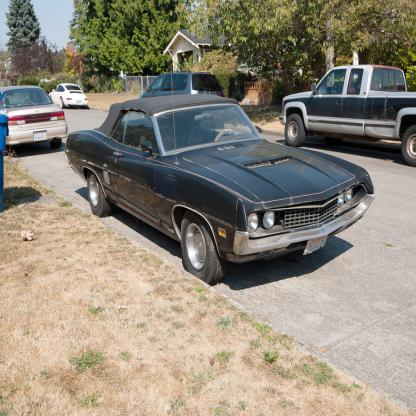Car: (64, 57, 375, 288), (0, 88, 68, 148), (138, 73, 224, 119), (49, 83, 88, 109)
Truck: (279, 64, 415, 168)
